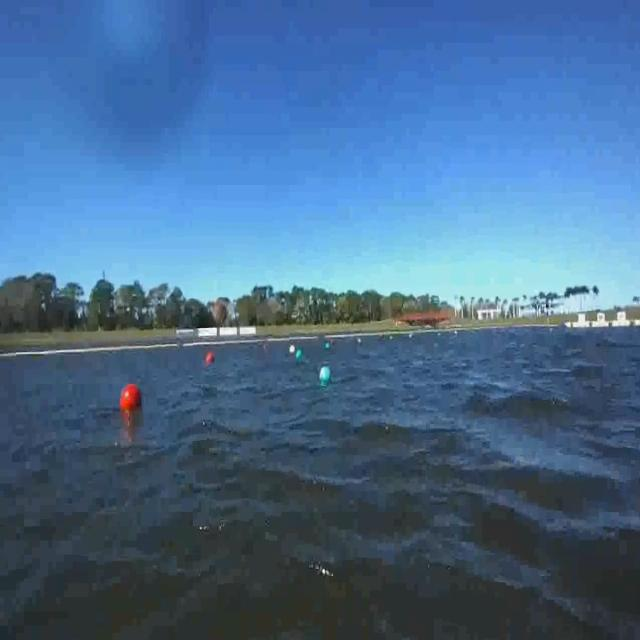green-buoy: (322, 365, 334, 383), (294, 347, 303, 362)
red-buoy: (122, 382, 144, 417), (204, 349, 218, 368)
